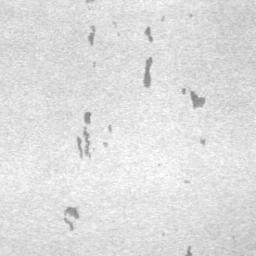Iron scale compression: (77, 112, 92, 159), (143, 57, 153, 88), (190, 91, 206, 110), (63, 208, 79, 223), (86, 26, 95, 47), (143, 26, 153, 43), (199, 131, 206, 146), (186, 247, 193, 256), (102, 142, 109, 149)
